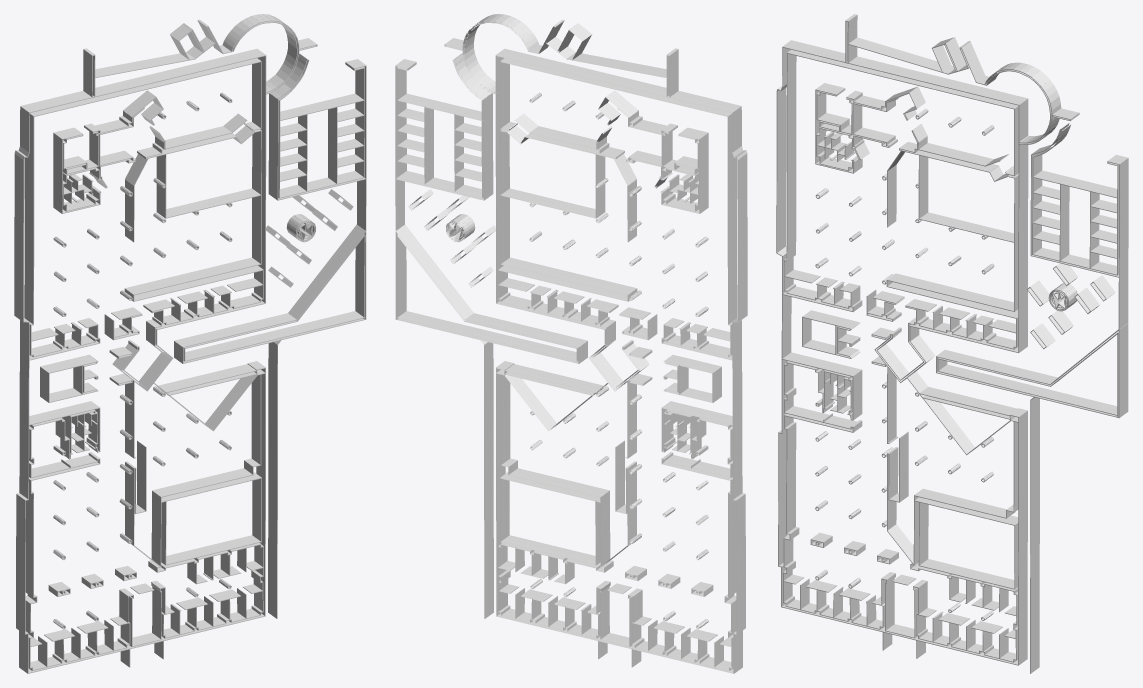
File: wall_1.obj
3 views of the same model, side by side, from view 1: azimuth 30°, elevation 25°; view 2: azimuth 150°, elevation 25°; view 3: azimuth 330°, elevation 25° (orthographic).
Parts seen in each view (by area): view 1: walls; view 2: walls; view 3: walls.
Boxes of the visible parts, x1=… form: walls: x1=14, y1=14, x2=366, y2=673; walls: x1=395, y1=14, x2=747, y2=673; walls: x1=776, y1=14, x2=1128, y2=673.
Size of the model in its own units: 55.1 by 95.45 by 2.5.
